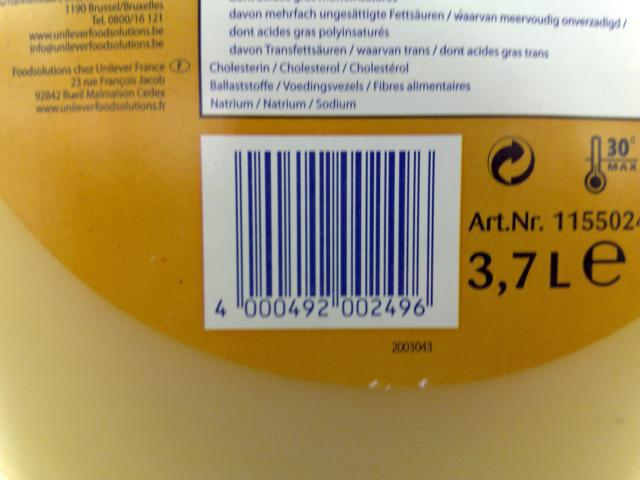Barkod: (233, 148, 435, 296)
